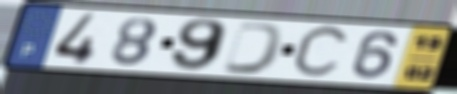4: (50, 11, 100, 68)
6: (350, 29, 400, 81)
8: (109, 16, 160, 67)
9: (170, 17, 234, 74)
C: (288, 23, 353, 81)
D: (219, 20, 289, 76)
